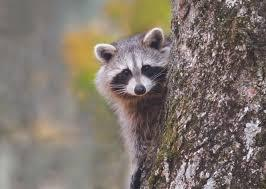raccoon: (79, 9, 192, 189)
